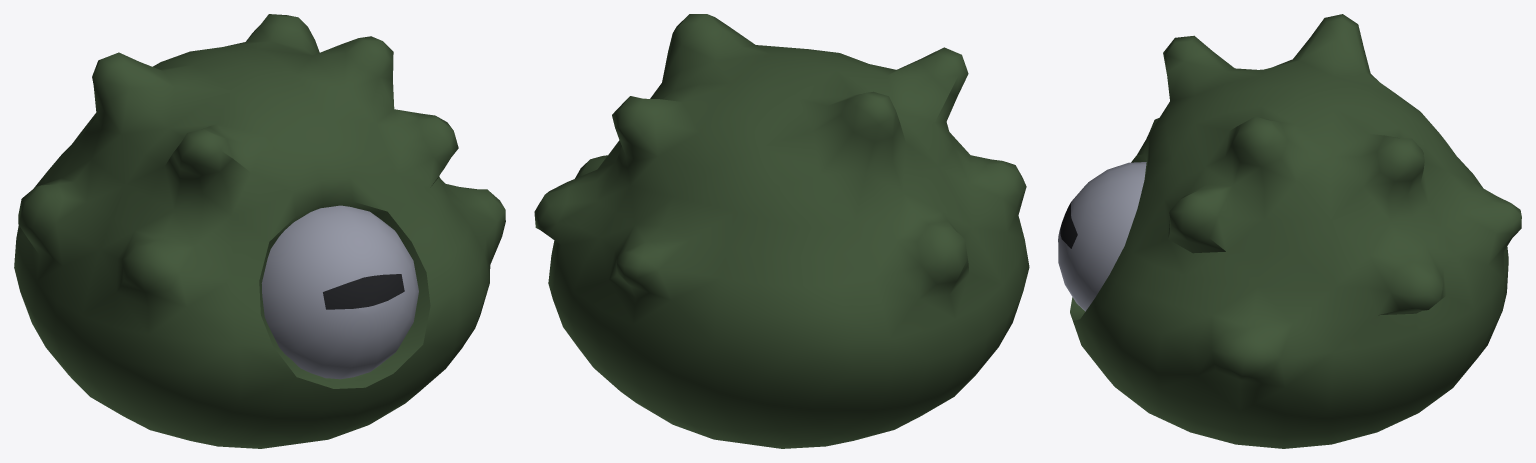
Rendered from GreenBlob.glb.
3 views of the same model, side by side, from view 1: azimuth 30°, elevation 25°; view 2: azimuth 150°, elevation 25°; view 3: azimuth 270°, elevation 25° (orthographic). The views are drawn at different scales.
Parts seen in each view (by area): view 1: SK_GreenBlob; view 2: SK_GreenBlob; view 3: SK_GreenBlob.
Boxes of the visible parts, bbox=[...] form: SK_GreenBlob: bbox=[14, 14, 505, 448]; SK_GreenBlob: bbox=[534, 14, 1029, 448]; SK_GreenBlob: bbox=[1058, 14, 1521, 448].
Bounding box in the file's own units: 2.25 × 1.85 × 2.19.
Materials: 1 (1 with a texture image).
